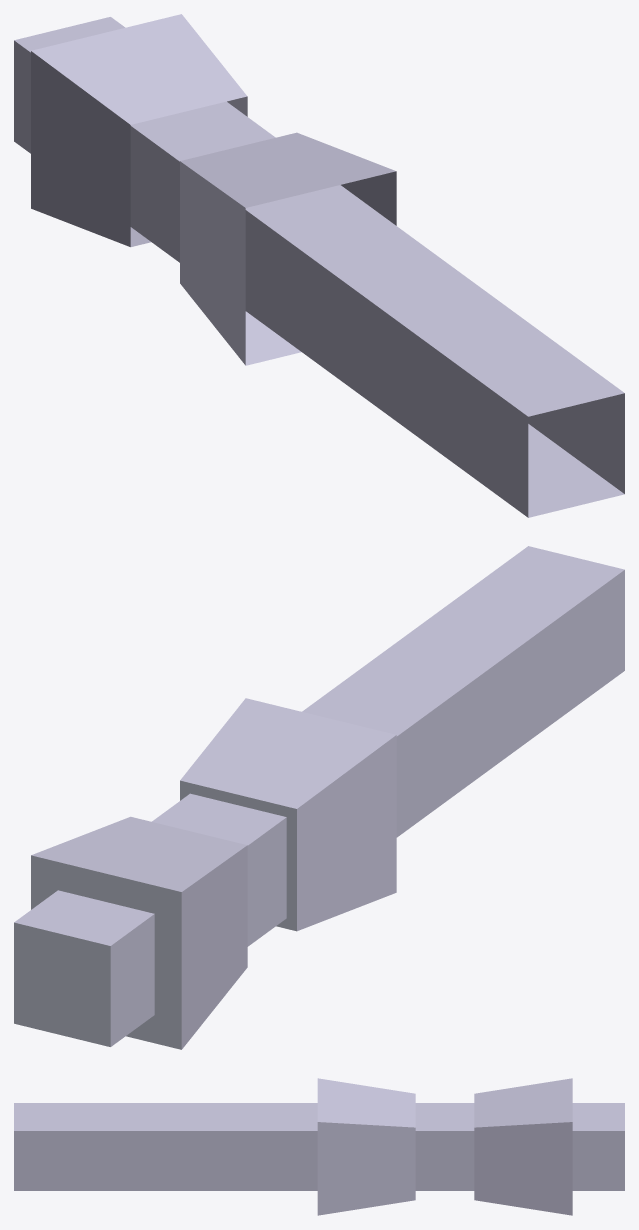
3 views of the same model, one above another, from view 1: azimuth 30°, elevation 25°; view 2: azimuth 150°, elevation 25°; view 3: azimuth 270°, elevation 25° (orthographic). The views are drawn at different scales.
Parts seen in each view (by area): view 1: Object38; view 2: Object38; view 3: Object38.
Part boxes in pixels (x1,y1,x2,y2): Object38: [14, 14, 624, 517]; Object38: [14, 546, 624, 1049]; Object38: [14, 1078, 624, 1215].
Size of the model in its own units: 5247 by 5247 by 31000.
